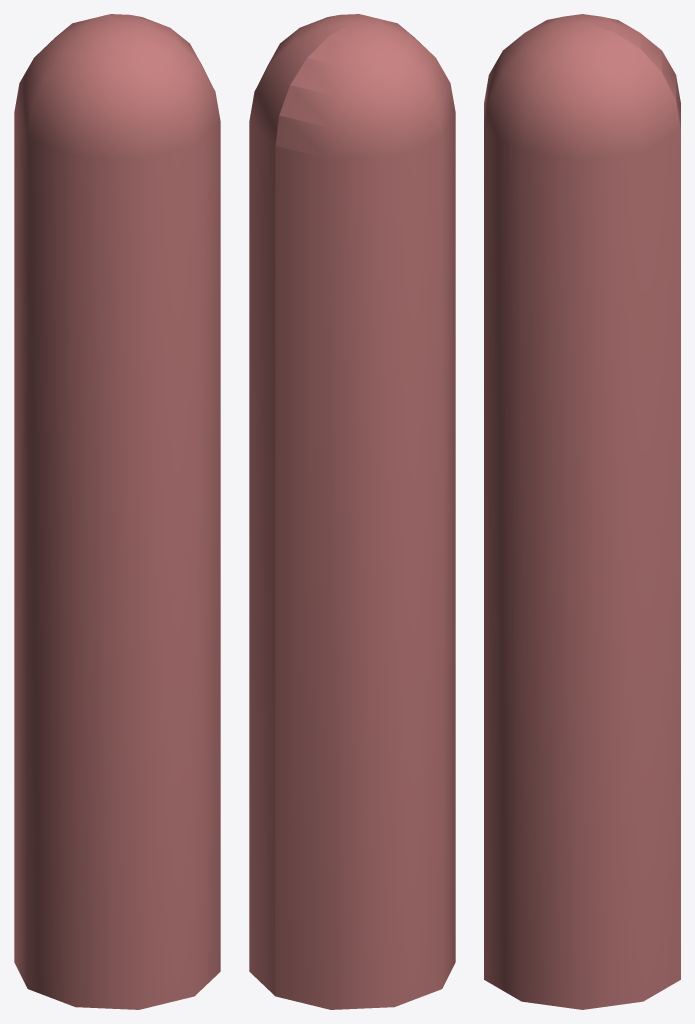
Rendered from cac.glb.
The picture shows the model from 3 angles, left to right: view 1: azimuth 30°, elevation 25°; view 2: azimuth 150°, elevation 25°; view 3: azimuth 270°, elevation 25°; orthographic projection.
Visible parts, largest first — view 1: x3ds_Capsule01; view 2: x3ds_Capsule01; view 3: x3ds_Capsule01.
Part boxes in pixels (<box>): x3ds_Capsule01: <box>14,14,220,1009</box>; x3ds_Capsule01: <box>249,14,455,1009</box>; x3ds_Capsule01: <box>484,14,680,1009</box>.
Size of the model in its own units: 14 by 70.37 by 13.31.
